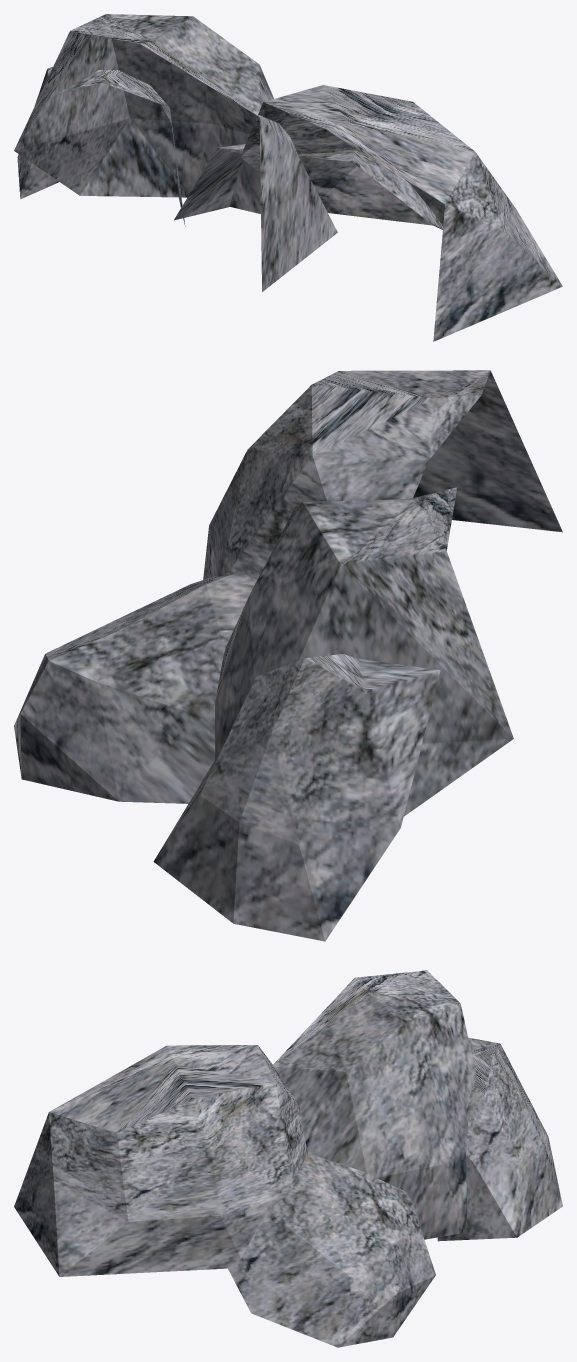
File: des_rockgp1_02.obj
The picture shows the model from 3 angles, top to bottom: view 1: azimuth 30°, elevation 25°; view 2: azimuth 150°, elevation 25°; view 3: azimuth 270°, elevation 25°; orthographic projection. The views are drawn at different scales.
Visible parts, largest first — view 1: des_rockgp1_02; view 2: des_rockgp1_02; view 3: des_rockgp1_02.
Boxes of the visible parts, <box> form: des_rockgp1_02: <box>14,14,562,341</box>; des_rockgp1_02: <box>14,370,562,941</box>; des_rockgp1_02: <box>14,970,562,1347</box>.
Size of the model in its own units: 42.25 by 25.79 by 54.77.
Materials: 2 (2 with a texture image).
